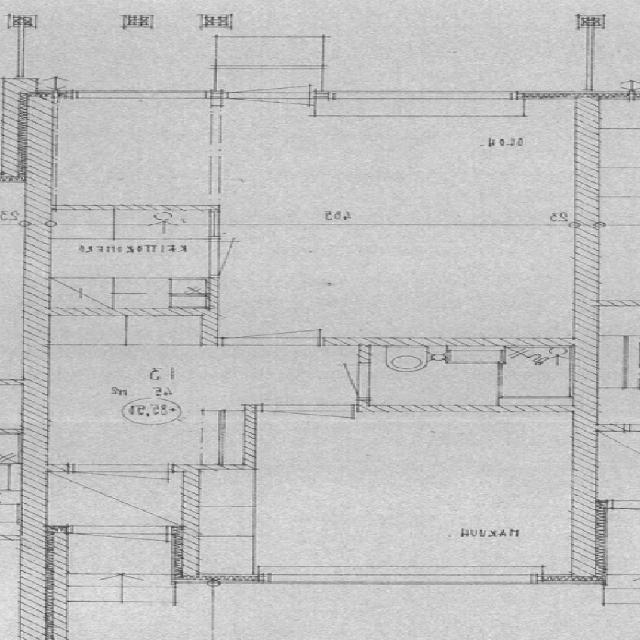door: (69, 525, 168, 578), (70, 464, 169, 516), (225, 294, 320, 346), (262, 405, 352, 452), (227, 52, 311, 99), (227, 91, 311, 137), (282, 364, 371, 398), (212, 241, 294, 275)
